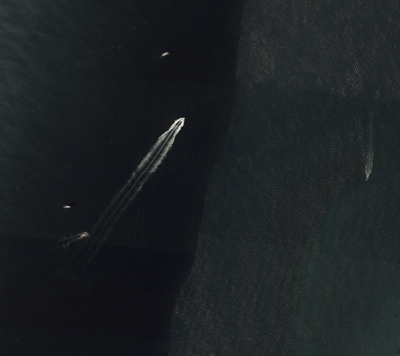boat: (80, 233, 91, 238), (162, 53, 171, 57), (63, 206, 72, 209), (181, 118, 186, 123), (366, 178, 368, 181)
